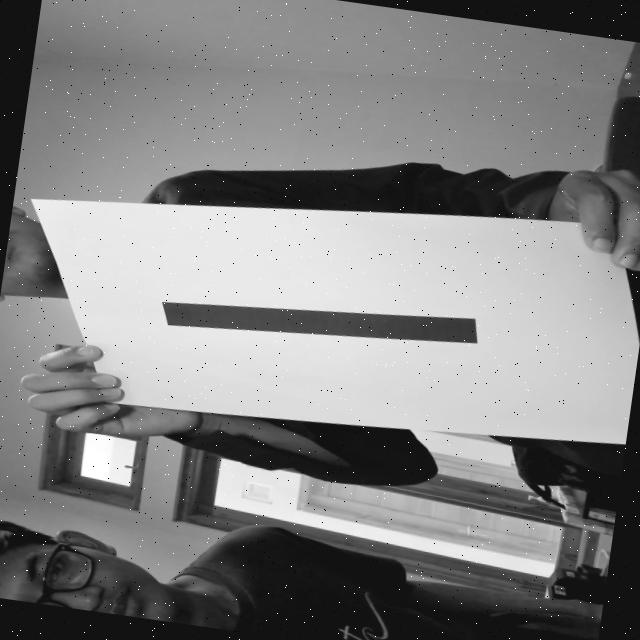i: (137, 243, 508, 384)
